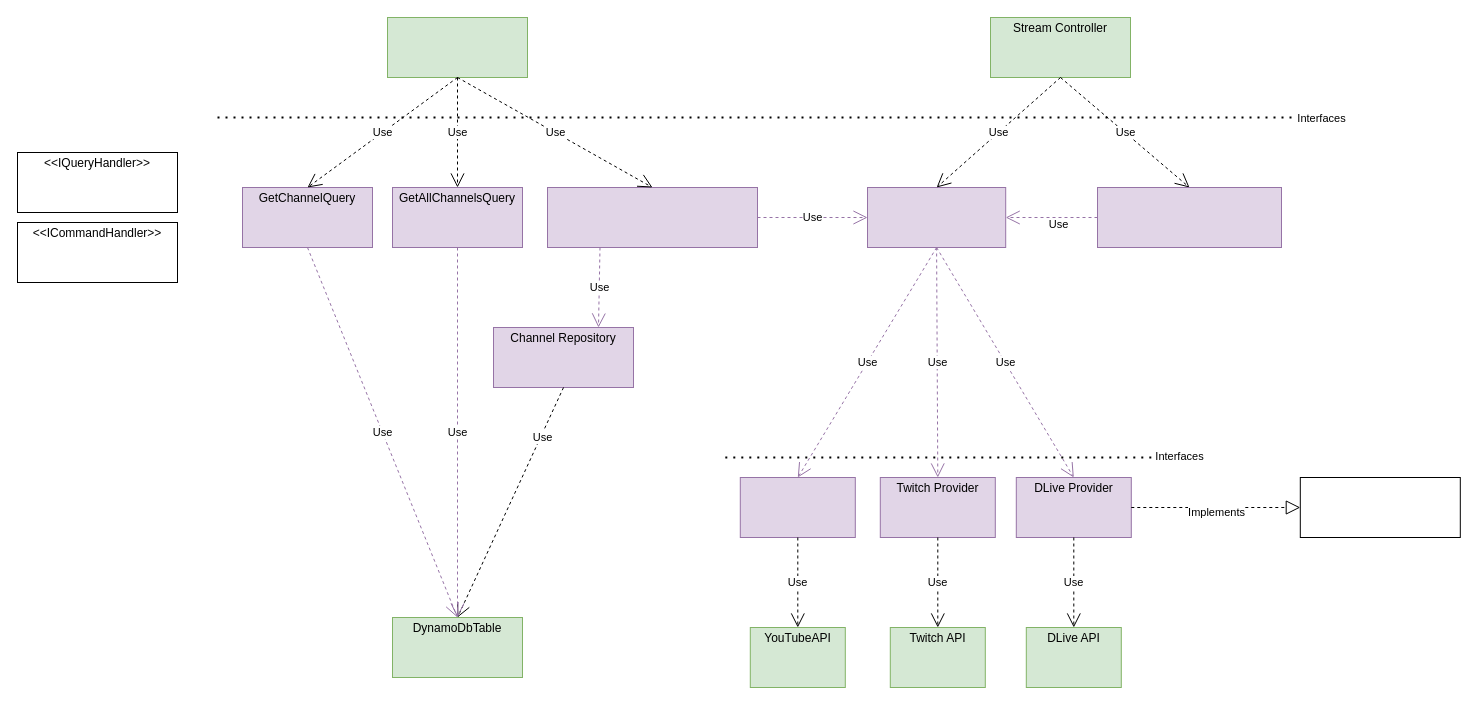
This 1478x705 diagram has some shape labels left out. Here are the shapes that lost their labels. From the top down, the centre of each, then its label:
At pixel 457 47: "Channels Controller".
At pixel 652 217: "RegisterOrUpdateCommandHandler".
At pixel 936 217: "Stream Platform Service".
At pixel 1189 217: "GetLiveStreamsQueryHandler".
At pixel 797 507: "YouTube Provider".
At pixel 1379 507: "<<IStreamProvider>>".
